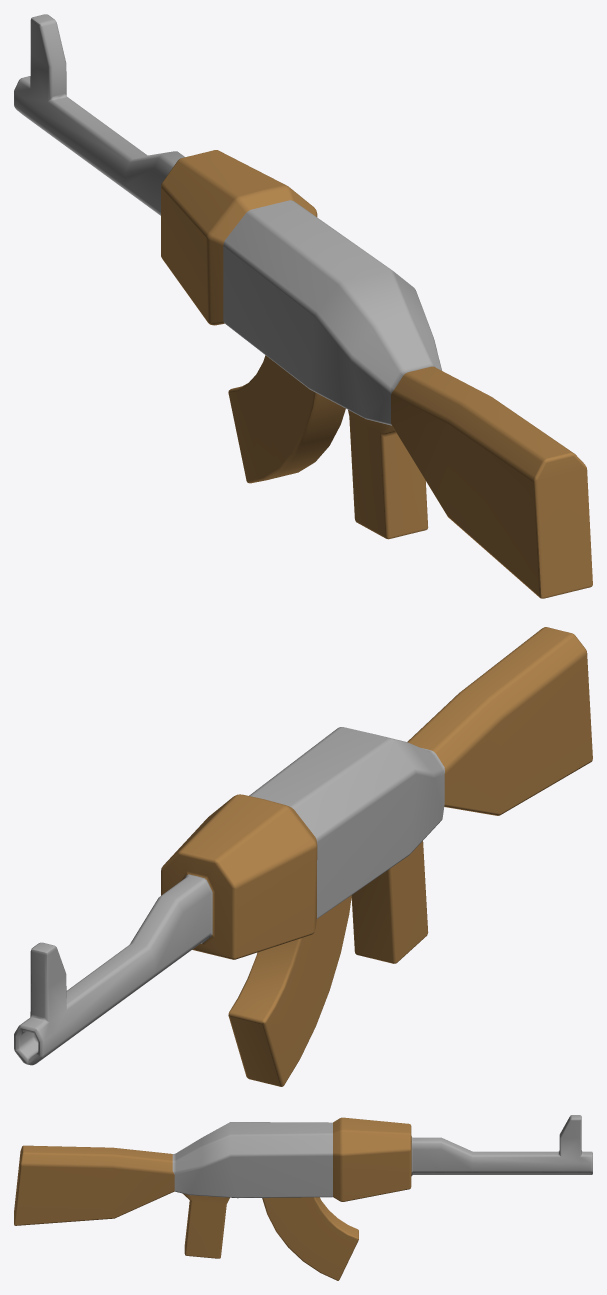
The model's file is Riffle.fbx.
The picture shows the model from 3 angles, top to bottom: view 1: azimuth 30°, elevation 25°; view 2: azimuth 150°, elevation 25°; view 3: azimuth 270°, elevation 25°; orthographic projection. The views are drawn at different scales.
Parts seen in each view (by area): view 1: Riffle; view 2: Riffle; view 3: Riffle.
Part boxes in pixels (left/top/right/bottom): Riffle: left=14, top=14, right=592, bottom=598; Riffle: left=14, top=627, right=592, bottom=1086; Riffle: left=14, top=1115, right=592, bottom=1280.
Size of the model in its own units: 82.9 by 216 by 709.
